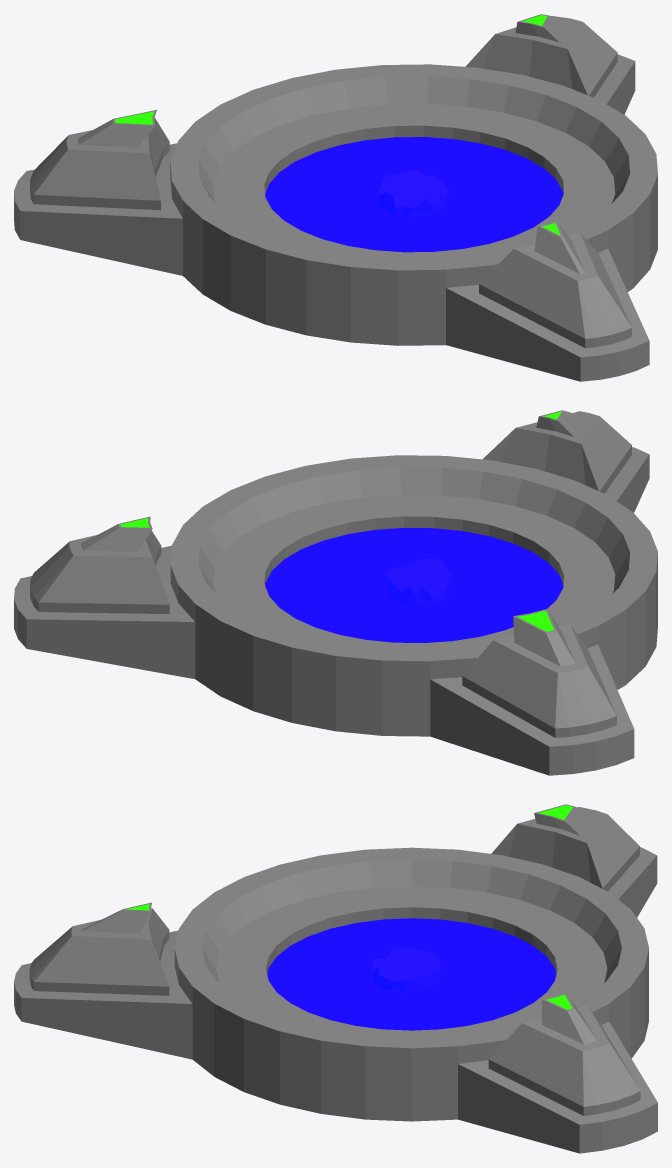
The model's file is TeleporterAnim.glb.
The picture shows the model from 3 angles, top to bottom: view 1: azimuth 30°, elevation 25°; view 2: azimuth 150°, elevation 25°; view 3: azimuth 270°, elevation 25°; orthographic projection. The views are drawn at different scales.
Visible parts, largest first — view 1: Cylinder.001, Cylinder.002; view 2: Cylinder.001, Cylinder.002; view 3: Cylinder.001, Cylinder.002.
Boxes of the visible parts, box(x1,y1,x2,y2) form: Cylinder.001: box(14, 14, 657, 381); Cylinder.002: box(377, 169, 449, 217); Cylinder.001: box(14, 410, 657, 775); Cylinder.002: box(386, 558, 455, 604); Cylinder.001: box(14, 804, 657, 1153); Cylinder.002: box(372, 946, 441, 993).
Bounding box in the file's own units: 1.95 × 0.3648 × 1.82.
